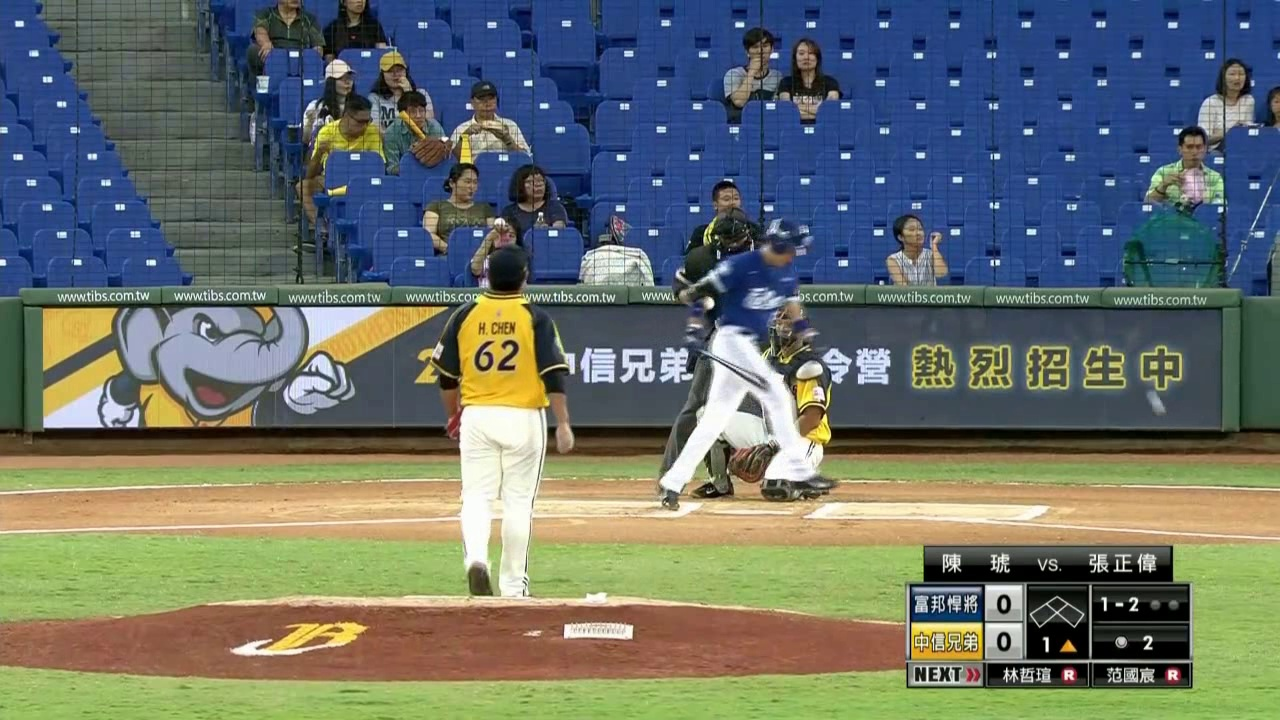base: (1026, 588, 1090, 632)
bat: (687, 342, 769, 389)
out: (1147, 593, 1185, 613)
score1: (992, 588, 1016, 620)
score2: (994, 625, 1020, 659)
session: (1027, 637, 1083, 657)
strikeball: (1098, 592, 1144, 612)
total: (1106, 629, 1160, 654)
